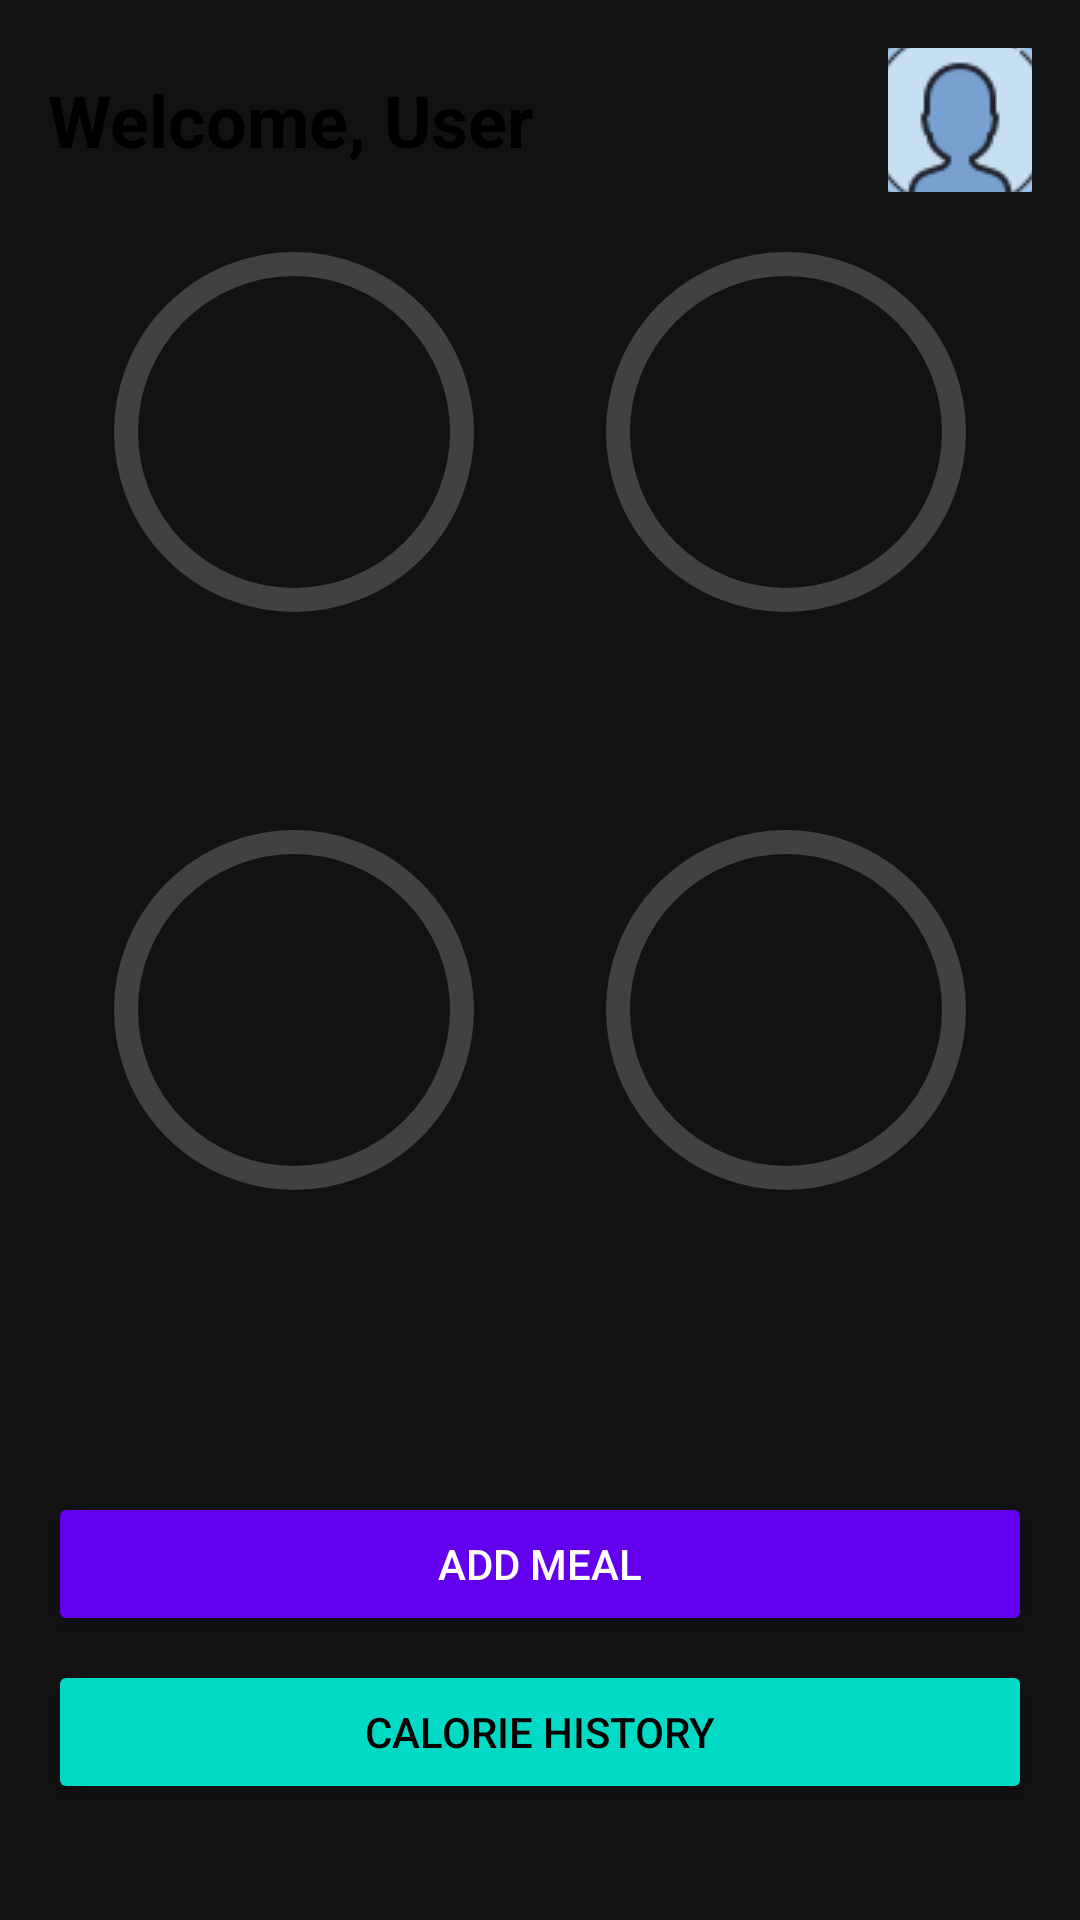

Named icons in this screenshot (1080*1920) and their bounding boxes, BBox(x1, y1, x2, y2):
Open Profile: BBox(888, 48, 1032, 192)
